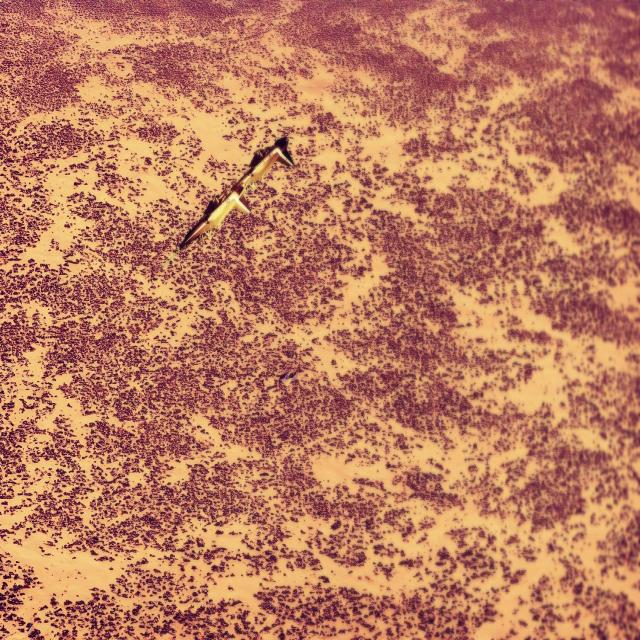airplane: (178, 134, 294, 251)
